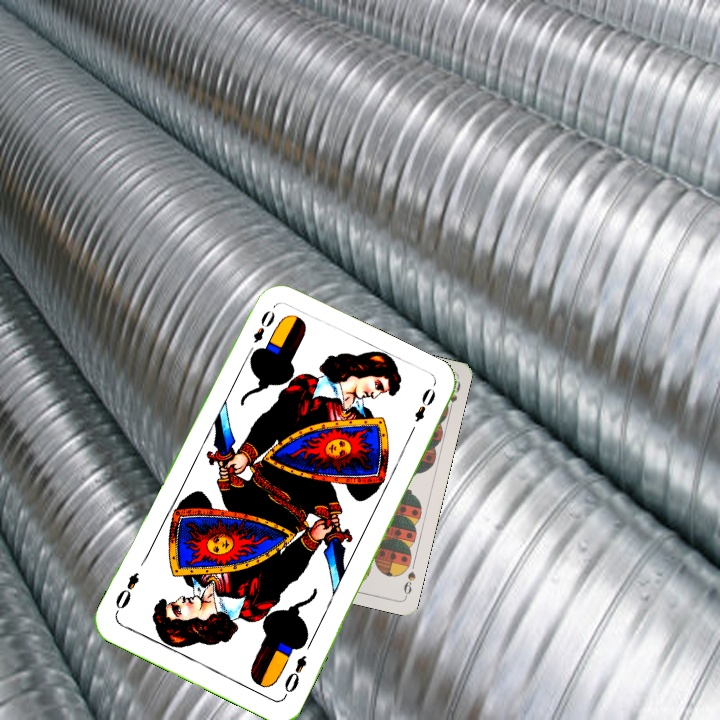EO: (242, 306, 278, 359), (279, 651, 310, 700)
S9: (400, 567, 418, 600)
